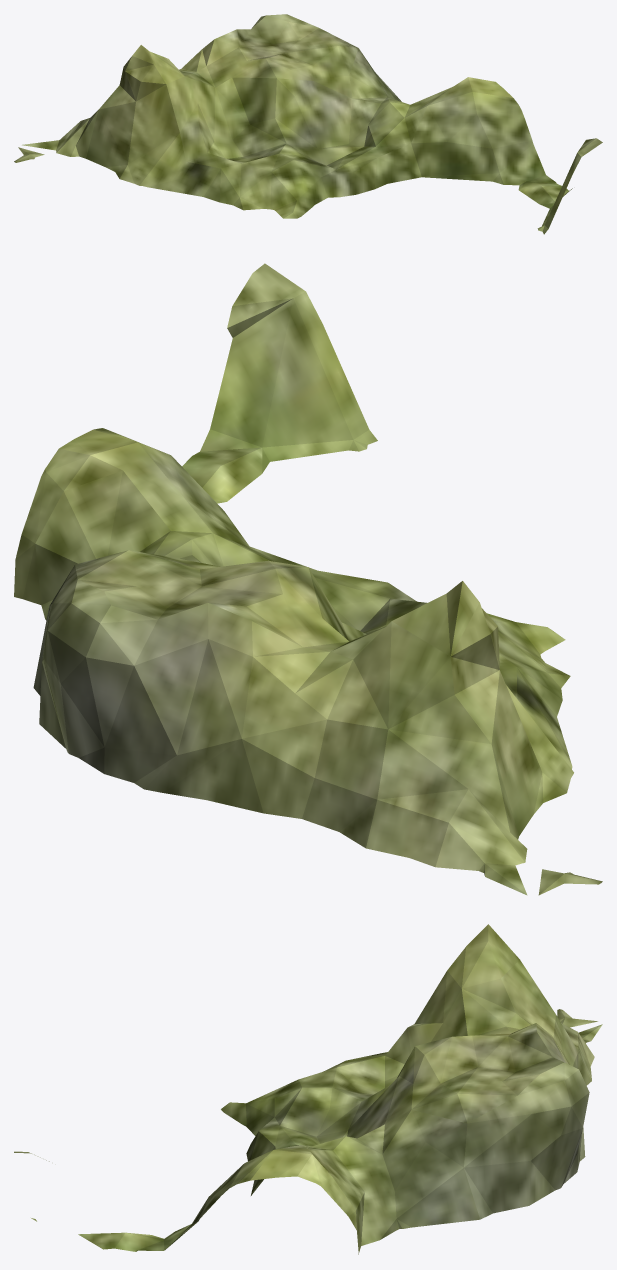
3 renders of one model, top to bottom at view 1: azimuth 30°, elevation 25°; view 2: azimuth 150°, elevation 25°; view 3: azimuth 270°, elevation 25°, orthographic. The views are drawn at different scales.
Bounding box in the file's own units: 1.63 × 0.4628 × 1.65.
Materials: 1 (1 with a texture image).
